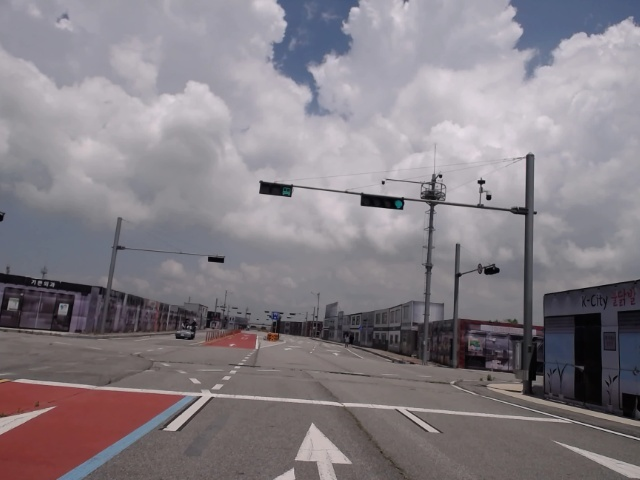straight_green_4: (362, 192, 407, 210)
